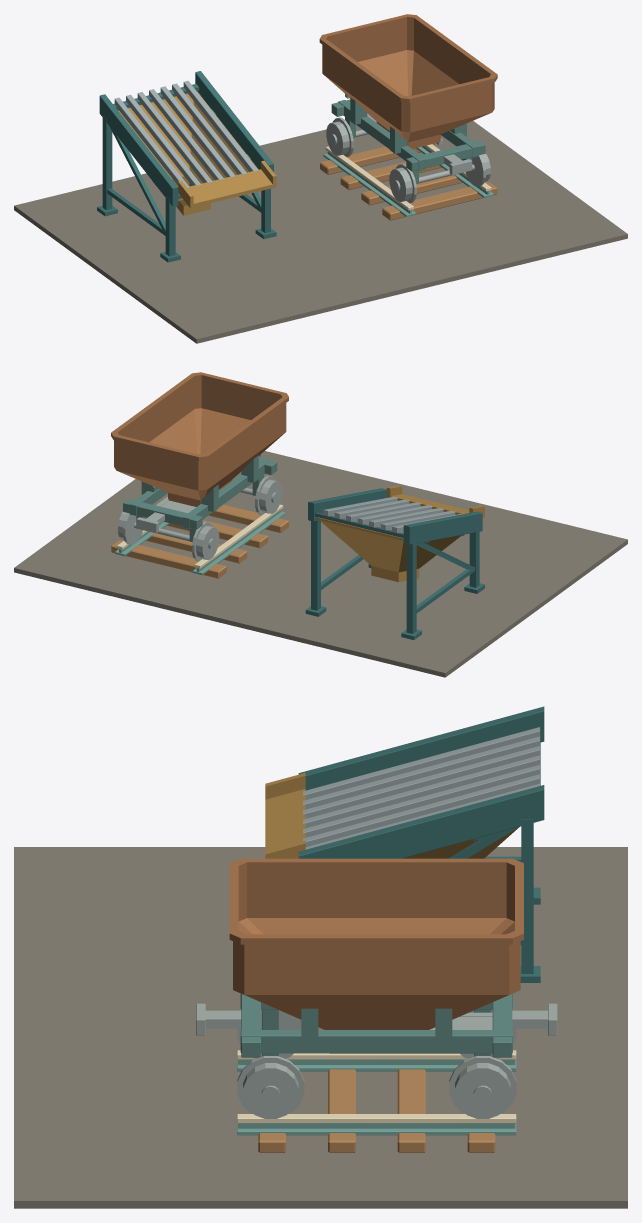
3 renders of one model, top to bottom at view 1: azimuth 30°, elevation 25°; view 2: azimuth 150°, elevation 25°; view 3: azimuth 270°, elevation 25°, orthographic. The views are drawn at different scales.
Visible parts, largest first — view 1: SCENE_ONLY__SupportFloor, parked_hopper__Hopper_ContinuousThickOpenShell, short_siding__railway-straight-track-01, ore_screen__Collector_ContinuousThickOpenShell, ore_screen__LowEnd_OpenULip, ore_screen__SideBeam_L, ore_screen__SideBeam_R, ore_screen__GrizzlyBar_05, ore_screen__GrizzlyBar_03, ore_screen__GrizzlyBar_07, ore_screen__GrizzlyBar_06, ore_screen__GrizzlyBar_02 (+10 smaller); view 2: SCENE_ONLY__SupportFloor, parked_hopper__Hopper_ContinuousThickOpenShell, short_siding__railway-straight-track-01, ore_screen__Collector_ContinuousThickOpenShell, ore_screen__SideBeam_L, ore_screen__Leg_L_High, ore_screen__SideBeam_R, parked_hopper__Chassis_Left, ore_screen__Leg_R_High, parked_hopper__Crossmember_Rear, ore_screen__LowEnd_OpenULip, parked_hopper__Tread_Left_Front (+10 smaller); view 3: SCENE_ONLY__SupportFloor, parked_hopper__Hopper_ContinuousThickOpenShell, short_siding__railway-straight-track-01, ore_screen__SideBeam_R, parked_hopper__Chassis_Right, ore_screen__SideBeam_L, ore_screen__LowEnd_OpenULip, ore_screen__GrizzlyBar_05, ore_screen__GrizzlyBar_01, ore_screen__GrizzlyBar_02, ore_screen__GrizzlyBar_03, ore_screen__GrizzlyBar_04 (+14 smaller).
Part boxes in pixels (x1,y1,x2,y2): SCENE_ONLY__SupportFloor: [14, 121, 627, 343]; parked_hopper__Hopper_ContinuousThickOpenShell: [319, 14, 497, 148]; short_siding__railway-straight-track-01: [320, 143, 497, 220]; ore_screen__Collector_ContinuousThickOpenShell: [118, 91, 258, 215]; ore_screen__LowEnd_OpenULip: [178, 160, 276, 208]; ore_screen__SideBeam_L: [99, 94, 178, 206]; ore_screen__SideBeam_R: [195, 71, 273, 172]; ore_screen__GrizzlyBar_05: [160, 86, 235, 177]; ore_screen__GrizzlyBar_03: [137, 92, 212, 183]; ore_screen__GrizzlyBar_07: [183, 80, 258, 171]; ore_screen__GrizzlyBar_06: [172, 83, 247, 174]; ore_screen__GrizzlyBar_02: [126, 94, 201, 185]; SCENE_ONLY__SupportFloor: [14, 451, 627, 677]; parked_hopper__Hopper_ContinuousThickOpenShell: [111, 372, 288, 506]; short_siding__railway-straight-track-01: [111, 504, 288, 578]; ore_screen__Collector_ContinuousThickOpenShell: [317, 516, 460, 582]; ore_screen__SideBeam_L: [403, 511, 482, 544]; ore_screen__Leg_L_High: [406, 539, 416, 633]; ore_screen__SideBeam_R: [308, 488, 386, 521]; parked_hopper__Chassis_Left: [183, 458, 270, 528]; ore_screen__Leg_R_High: [311, 519, 320, 610]; parked_hopper__Crossmember_Rear: [123, 499, 202, 529]; ore_screen__LowEnd_OpenULip: [386, 485, 484, 517]; parked_hopper__Tread_Left_Front: [259, 479, 282, 513]; SCENE_ONLY__SupportFloor: [14, 847, 627, 1208]; parked_hopper__Hopper_ContinuousThickOpenShell: [229, 858, 523, 1029]; short_siding__railway-straight-track-01: [237, 1050, 516, 1152]; ore_screen__SideBeam_R: [298, 785, 544, 858]; parked_hopper__Chassis_Right: [240, 1030, 512, 1053]; ore_screen__SideBeam_L: [298, 706, 544, 790]; ore_screen__LowEnd_OpenULip: [265, 773, 305, 858]; ore_screen__GrizzlyBar_05: [303, 764, 539, 837]; ore_screen__GrizzlyBar_01: [303, 727, 539, 799]; ore_screen__GrizzlyBar_02: [303, 736, 539, 809]; ore_screen__GrizzlyBar_03: [303, 746, 539, 818]; ore_screen__GrizzlyBar_04: [303, 755, 539, 828].
Bounding box in the file's own units: 6 × 1.73 × 4.4.
